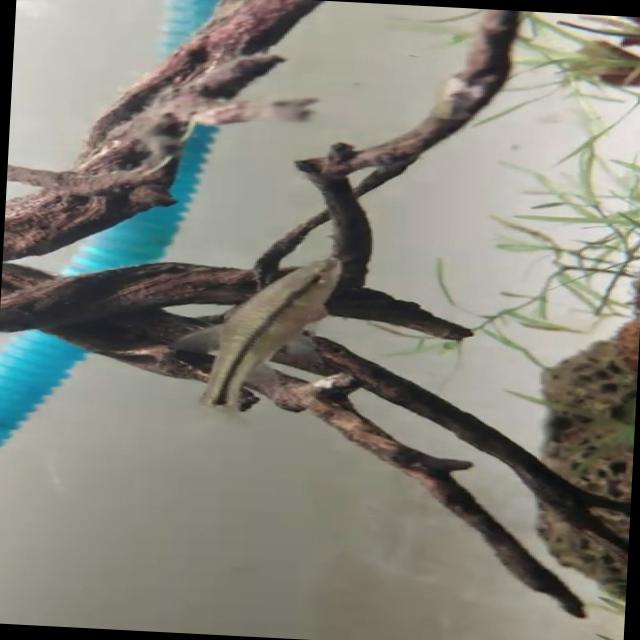Cakil Baligi: (166, 248, 350, 424)
